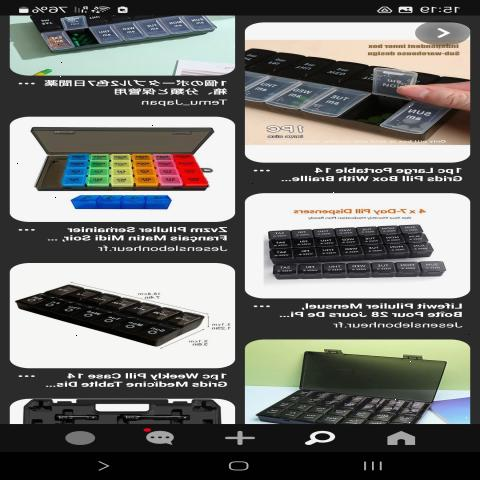PillBox: (245, 44, 462, 146), (0, 268, 205, 354), (245, 210, 449, 266)
